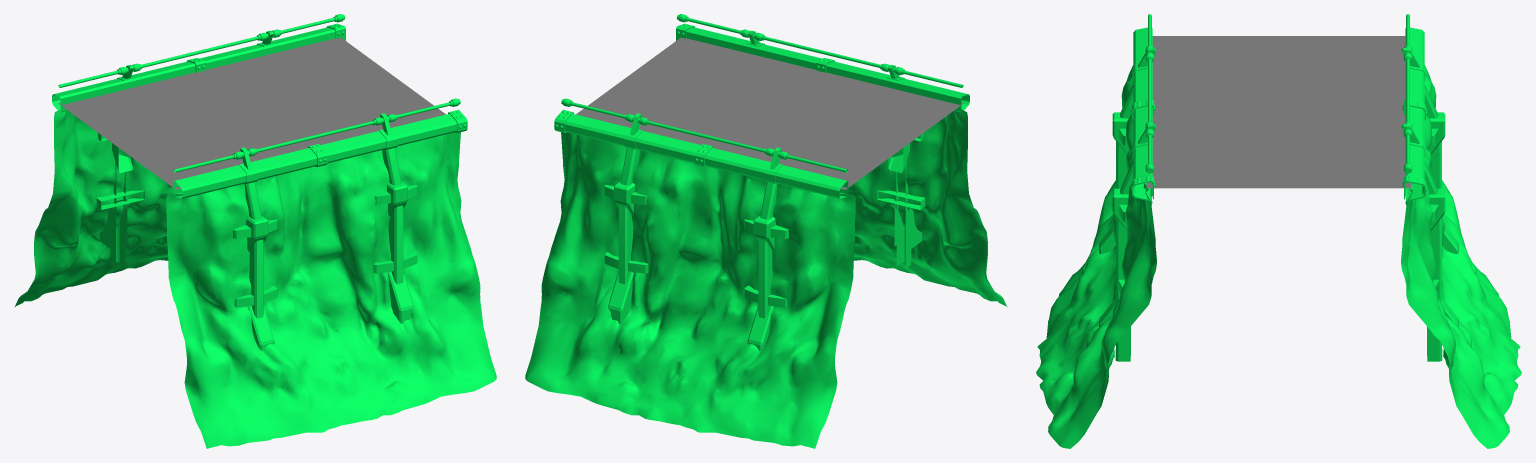
The model's file is Track_01.fbx.
The picture shows the model from 3 angles, left to right: view 1: azimuth 30°, elevation 25°; view 2: azimuth 150°, elevation 25°; view 3: azimuth 270°, elevation 25°; orthographic projection. The views are drawn at different scales.
Visible parts, largest first — view 1: Side_Rock_001, Road_001; view 2: Side_Rock_001, Road_001; view 3: Side_Rock_001, Road_001.
Part boxes in pixels (x1,y1,x2,y2): Side_Rock_001: (14,14,496,448); Road_001: (58,37,445,189); Side_Rock_001: (525,14,1007,448); Road_001: (576,37,963,189); Side_Rock_001: (1036,14,1521,448); Road_001: (1146,36,1411,188).
Size of what is drawn, in the model's own units: 3159 by 4039 by 2600.
